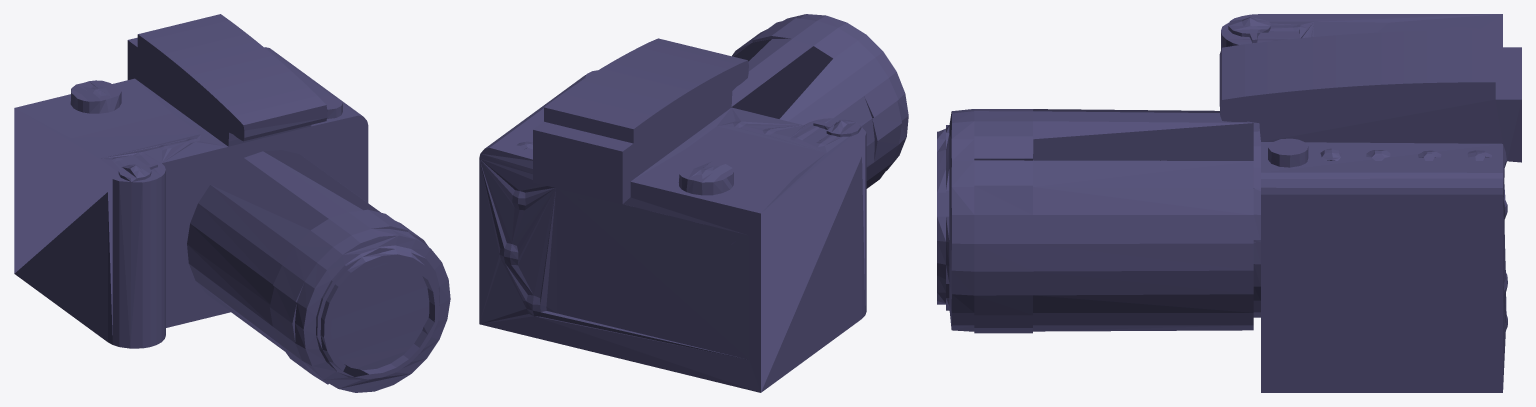
Rendered from model_align.obj.
3 views of the same model, side by side, from view 1: azimuth 30°, elevation 25°; view 2: azimuth 150°, elevation 25°; view 3: azimuth 270°, elevation 25° (orthographic). The views are drawn at different scales.
Bounding box in the file's own units: 0.153 × 0.1192 × 0.23.
Materials: 1 (1 with a texture image).
